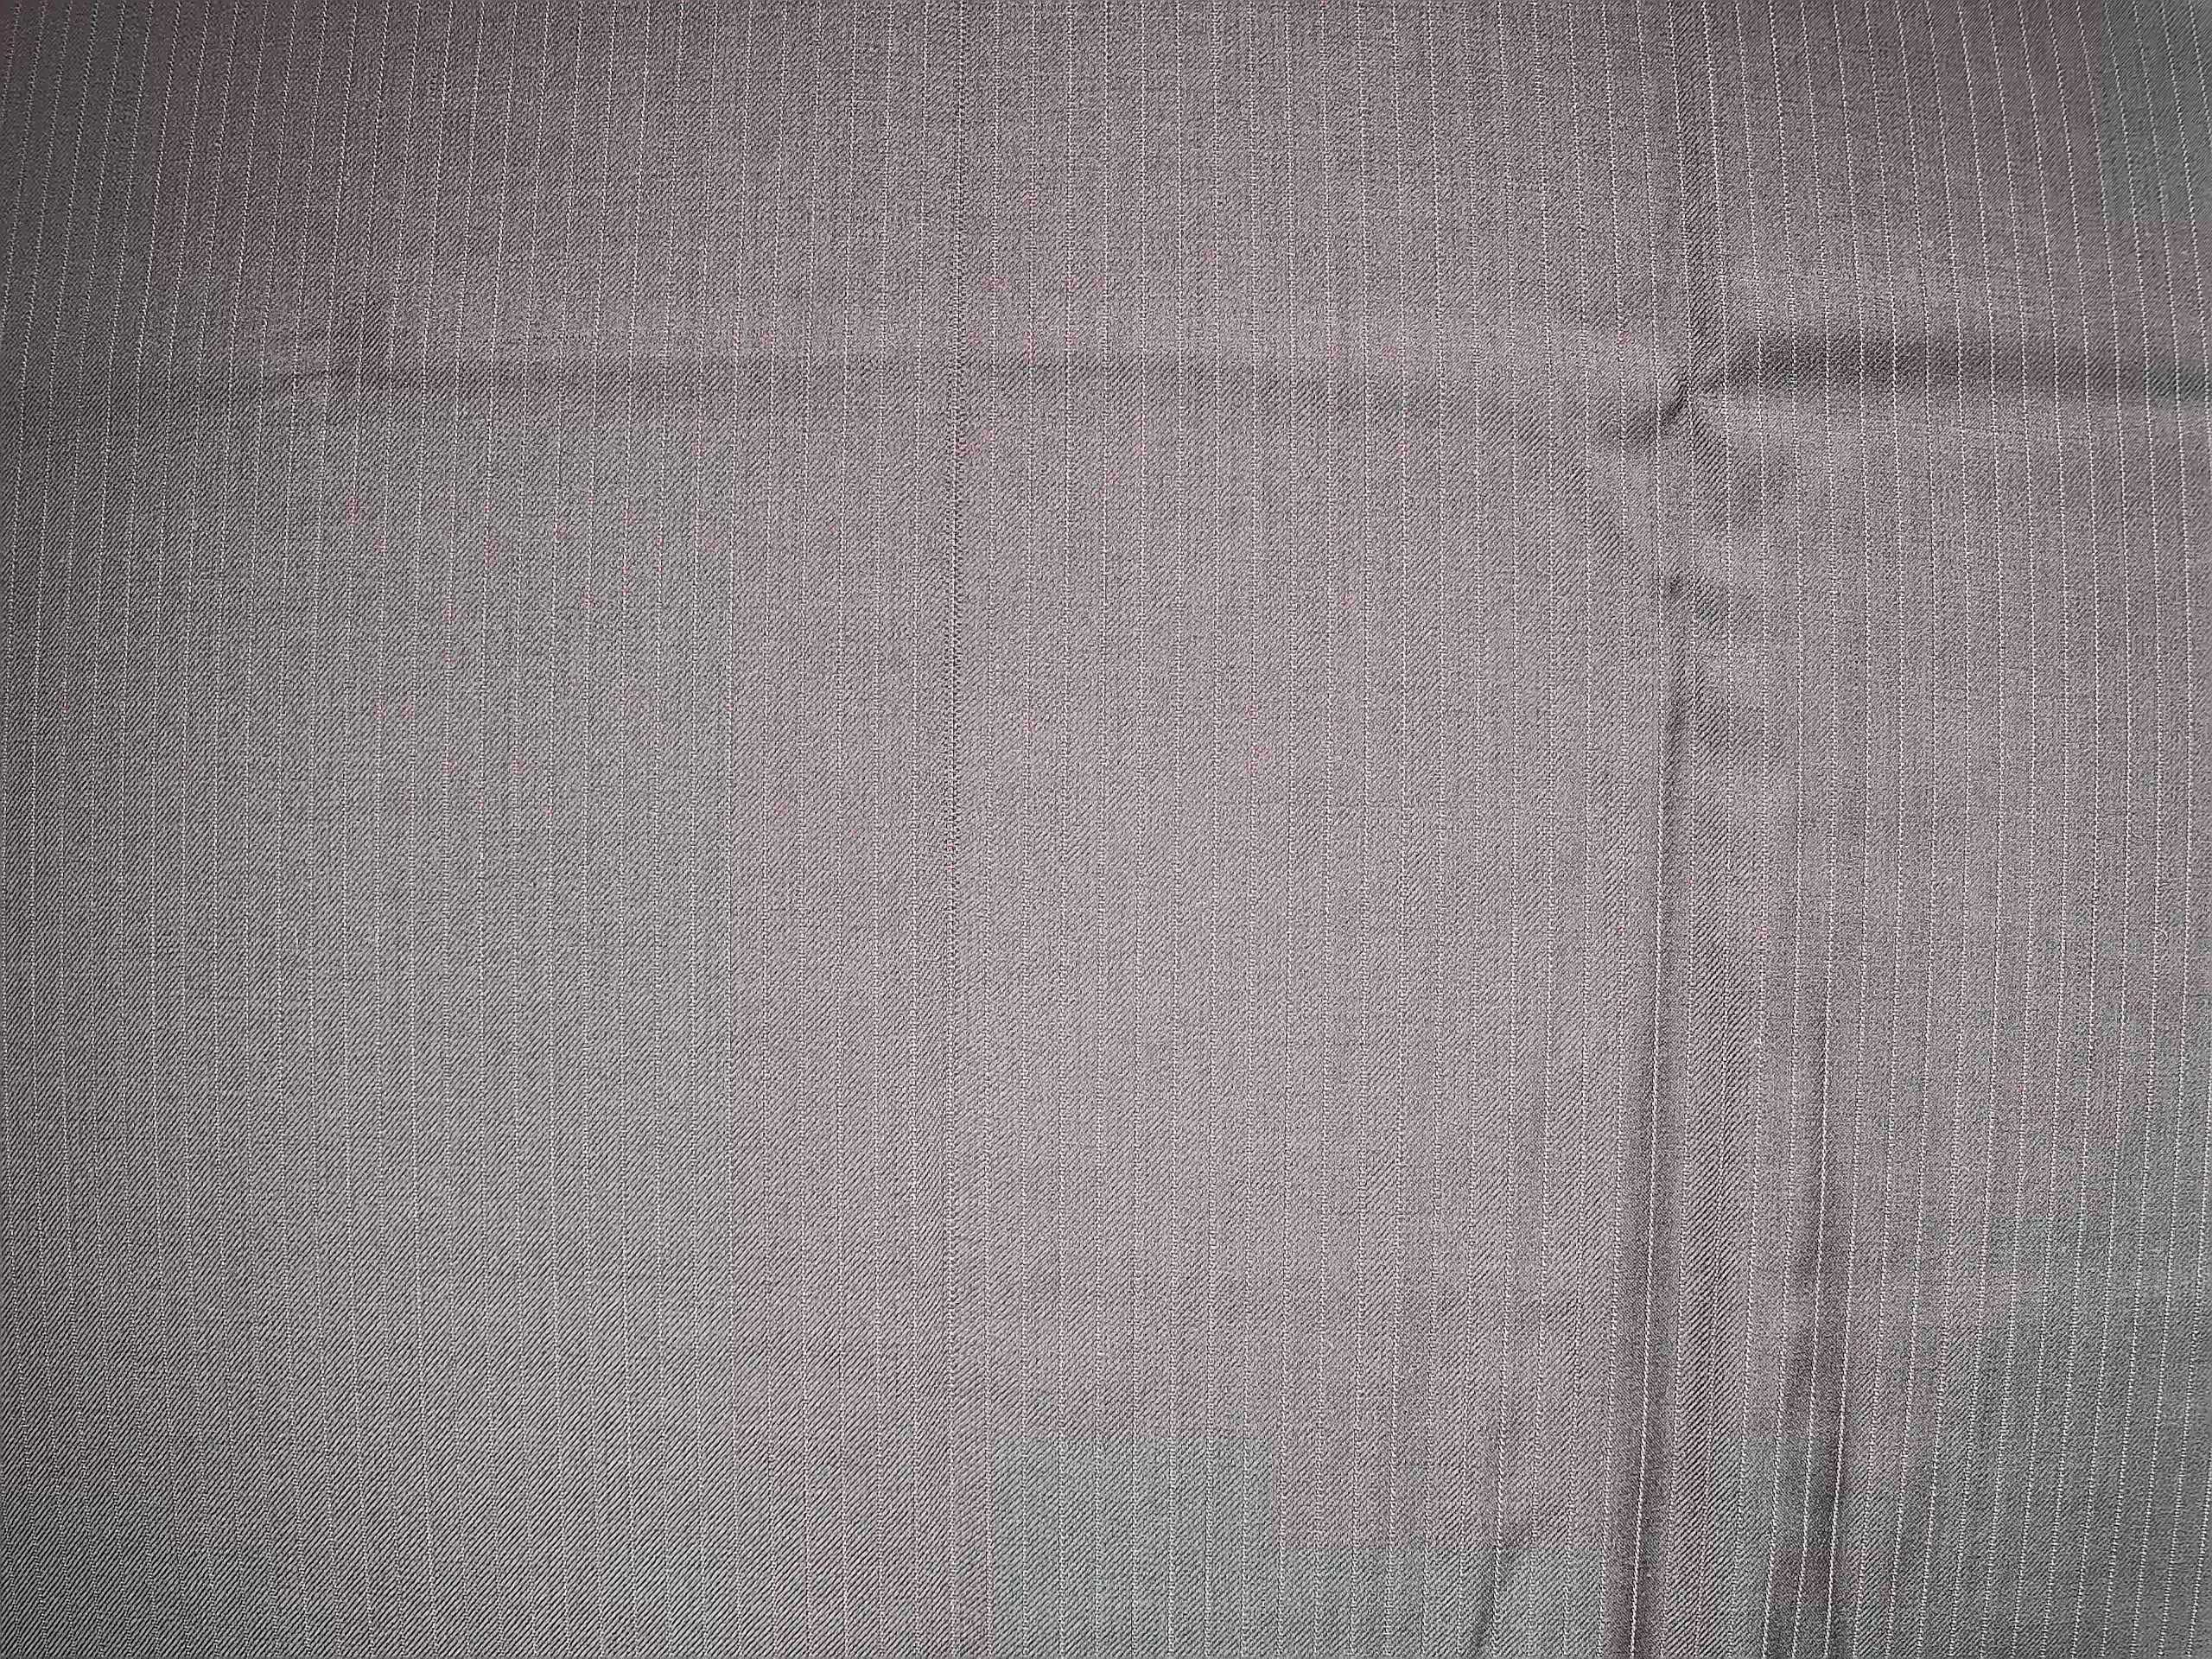hanging-warp: (925, 73, 986, 1429)
